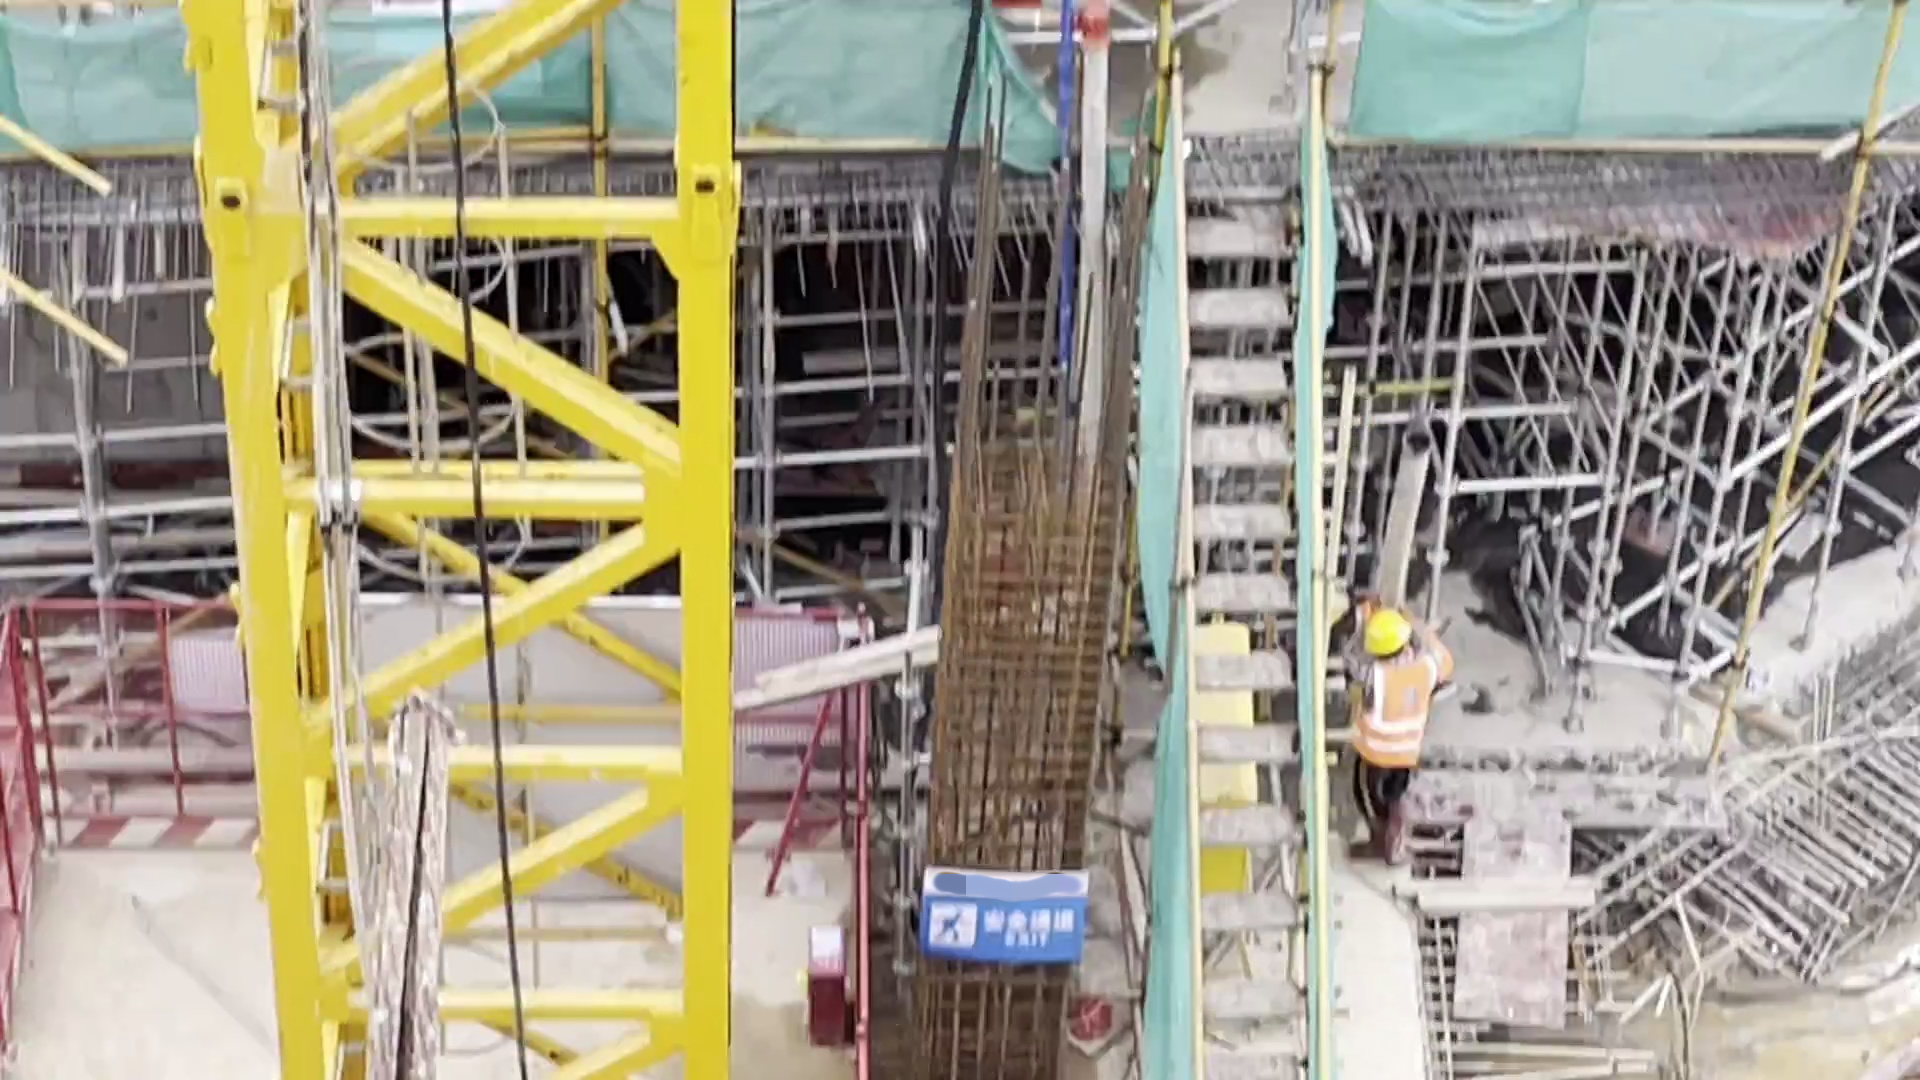ebox: (1180, 611, 1278, 901)
fence: (1, 564, 234, 1062), (730, 594, 903, 1080)
helmet: (1364, 611, 1410, 657)
person: (1338, 611, 1436, 864)
vest: (1359, 653, 1430, 771)
